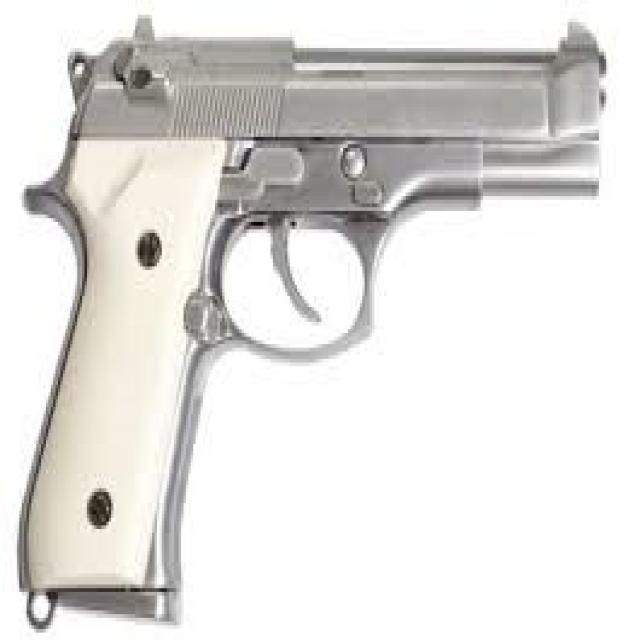pistol: (8, 4, 612, 640)
